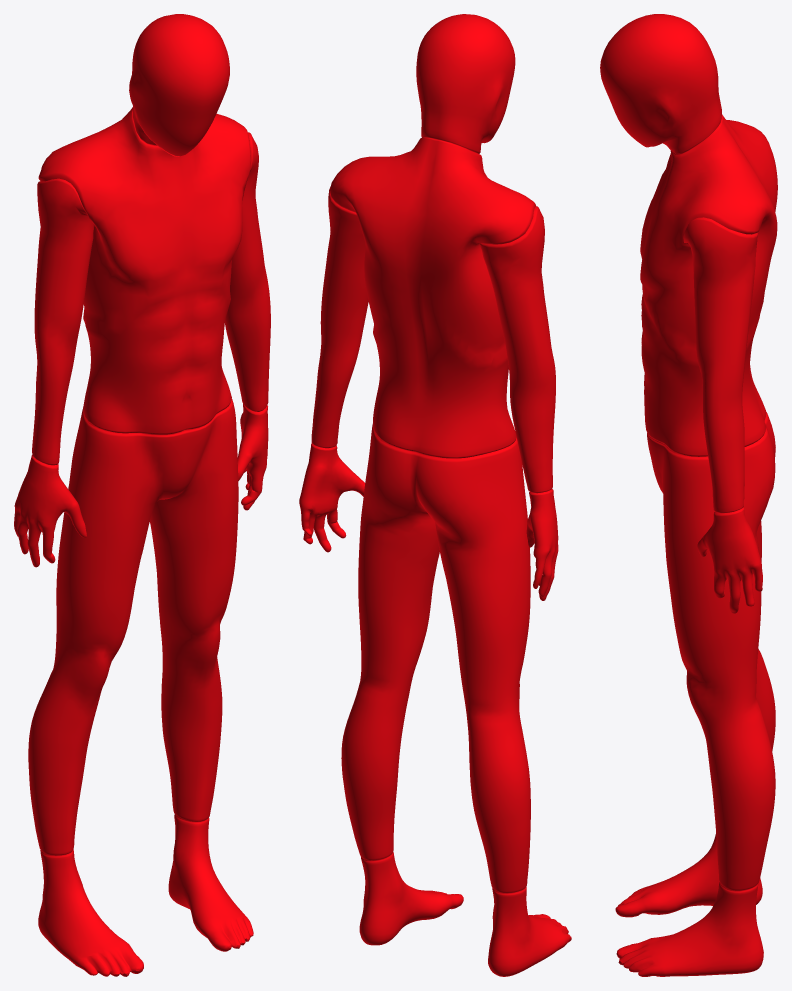
Rendered from dummy2.glb.
The picture shows the model from 3 angles, left to right: view 1: azimuth 30°, elevation 25°; view 2: azimuth 150°, elevation 25°; view 3: azimuth 270°, elevation 25°; orthographic projection. The views are drawn at different scales.
Parts seen in each view (by area): view 1: Ch36.001; view 2: Ch36.001; view 3: Ch36.001.
Part boxes in pixels (x1,y1,x2,y2): Ch36.001: (14,14,270,976); Ch36.001: (299,14,571,976); Ch36.001: (600,14,777,976).
Size of the model in its own units: 3.12 by 11.11 by 1.93.
